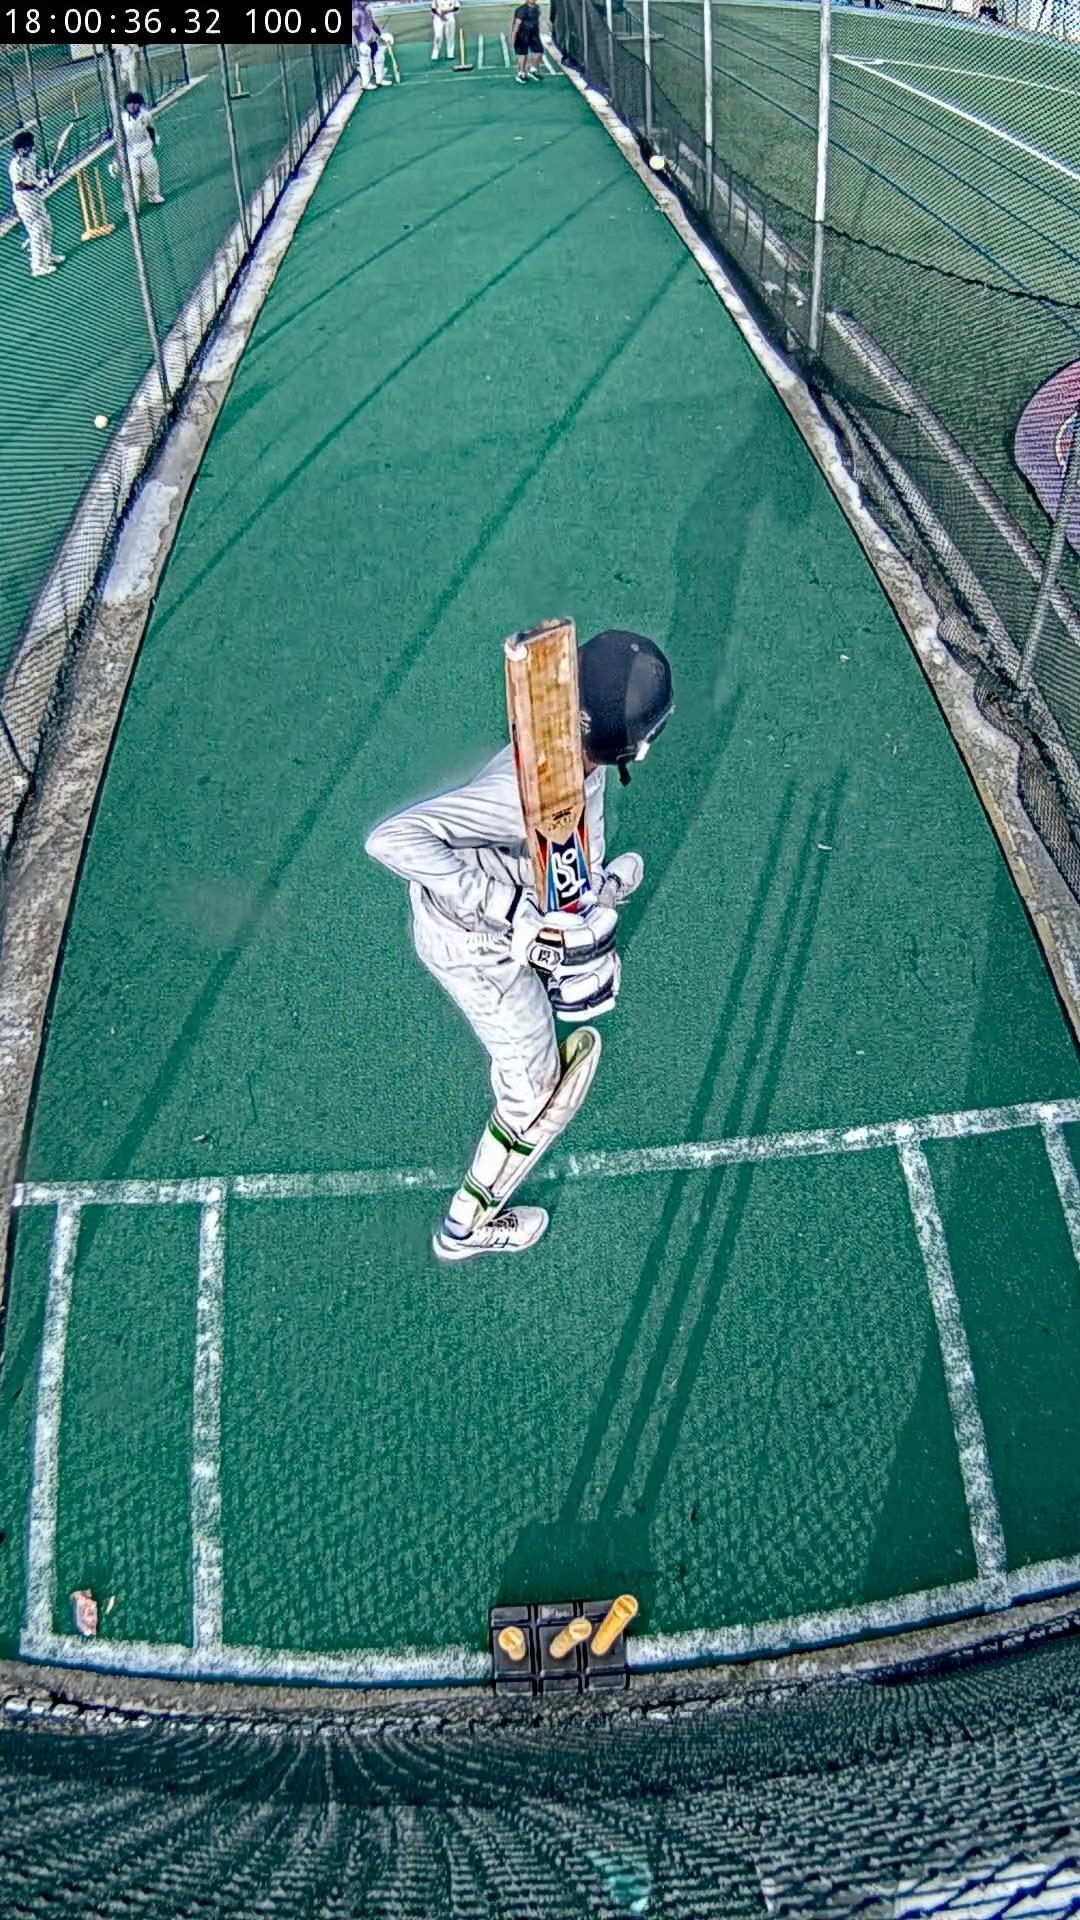ball: (649, 154, 667, 173)
bat: (506, 618, 592, 911)
gloves: (529, 903, 618, 1021)
helmet: (578, 630, 671, 765)
pads: (492, 1027, 600, 1204)
stumps: (492, 1594, 637, 1695)
